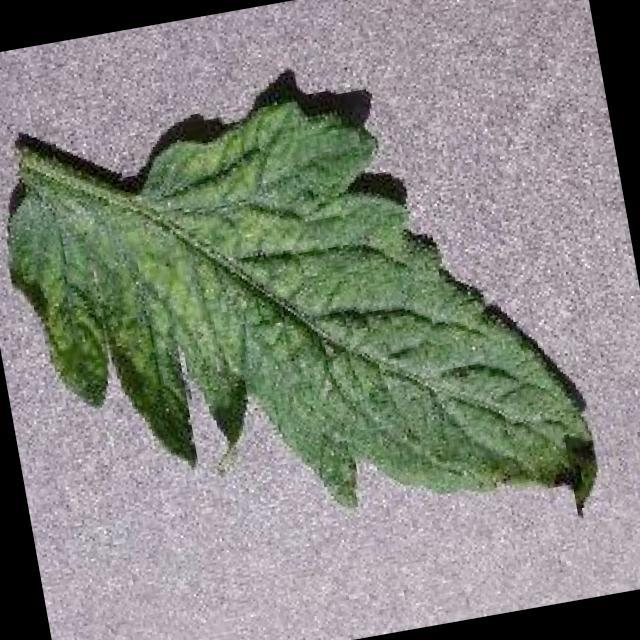Tomato mosaic virus leaf: (0, 49, 608, 606)
